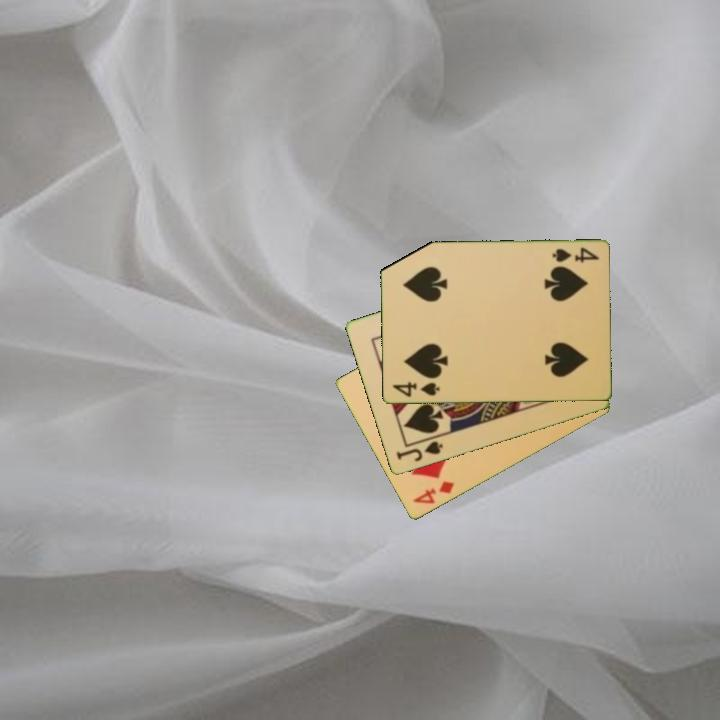4d: (409, 478, 457, 507)
4s: (548, 244, 601, 266), (389, 379, 442, 400)
Js: (392, 438, 446, 465)
